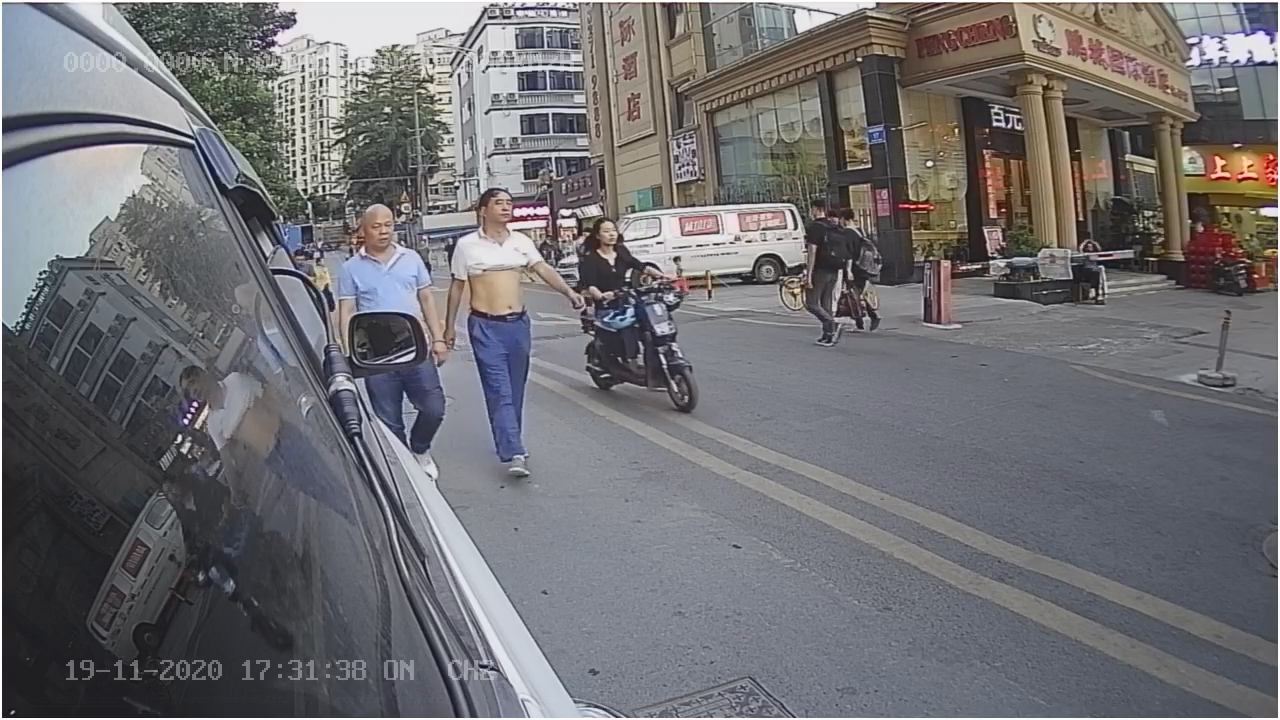person: (442, 190, 546, 481), (562, 218, 646, 282)
